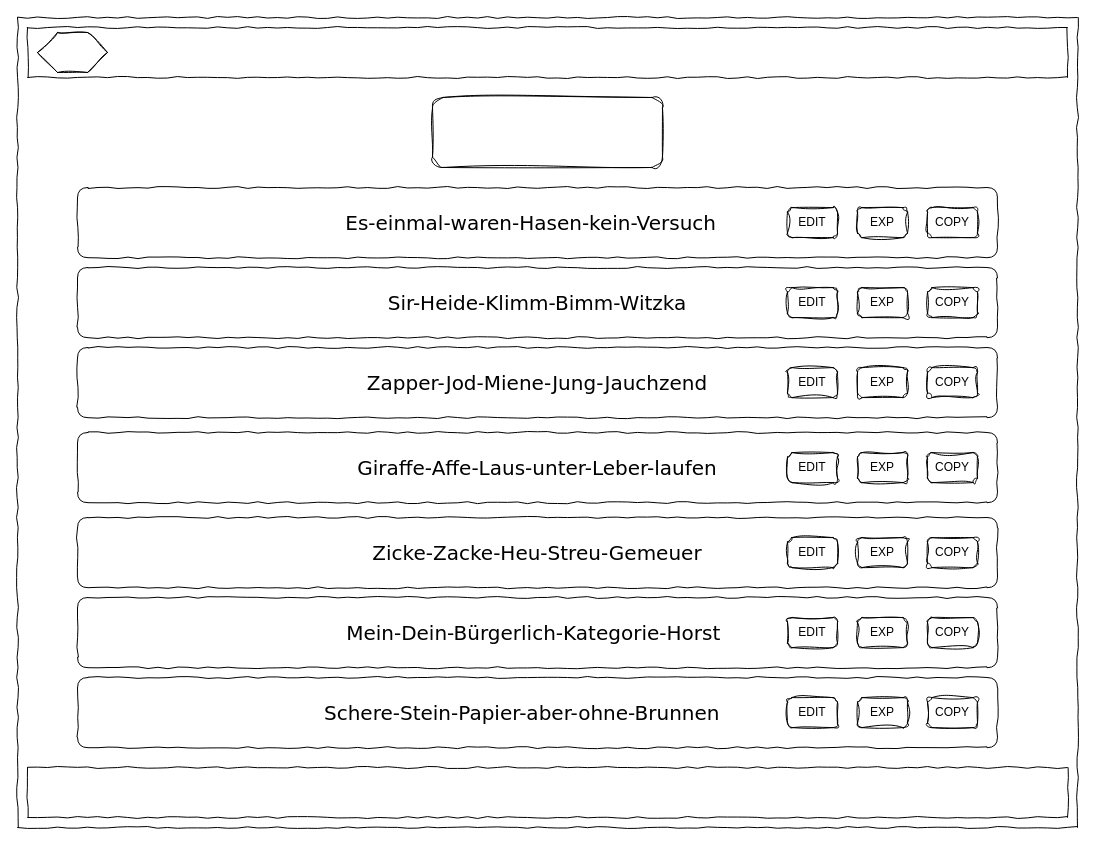
Some shapes in this 1095 by 845 pixel diagram are drawn without their labels. The shapes that lost their labels are listed below. From the top down, each one's centre as x and y in pixels, then its label:
At pixel 72 52: "LOGO".
At pixel 547 132: "Meine Phrasen".
At pixel 547 792: "Impressum".
